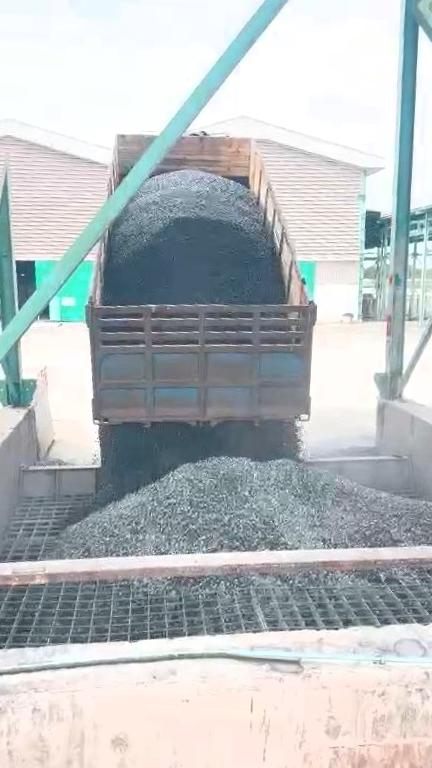gravel: (57, 457, 432, 558), (104, 171, 285, 305), (99, 422, 299, 503), (151, 568, 427, 604)
